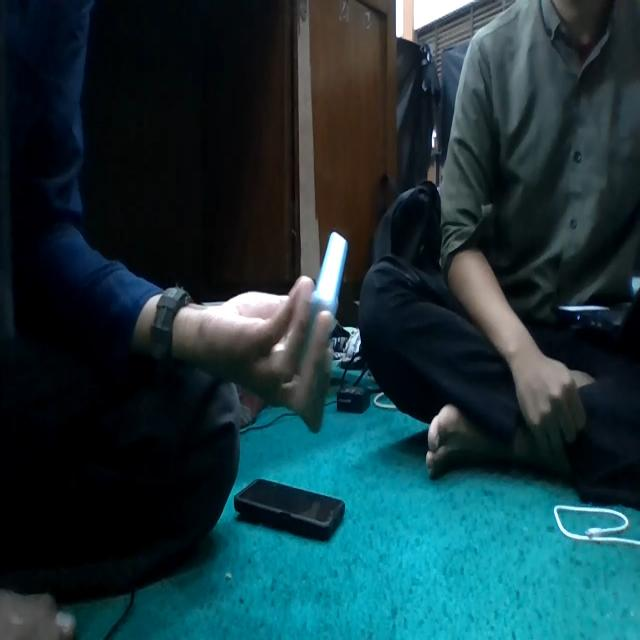Powerbank: (312, 231, 348, 316)
